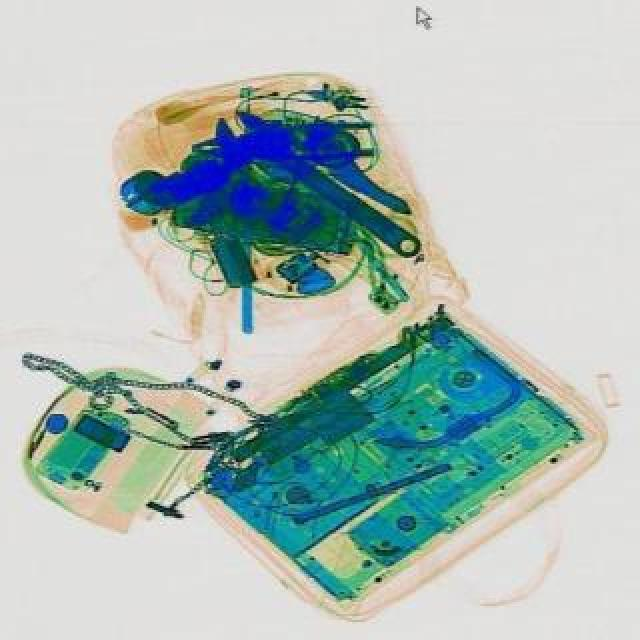scissors: (200, 98, 430, 274)
wrench: (188, 120, 374, 164)
